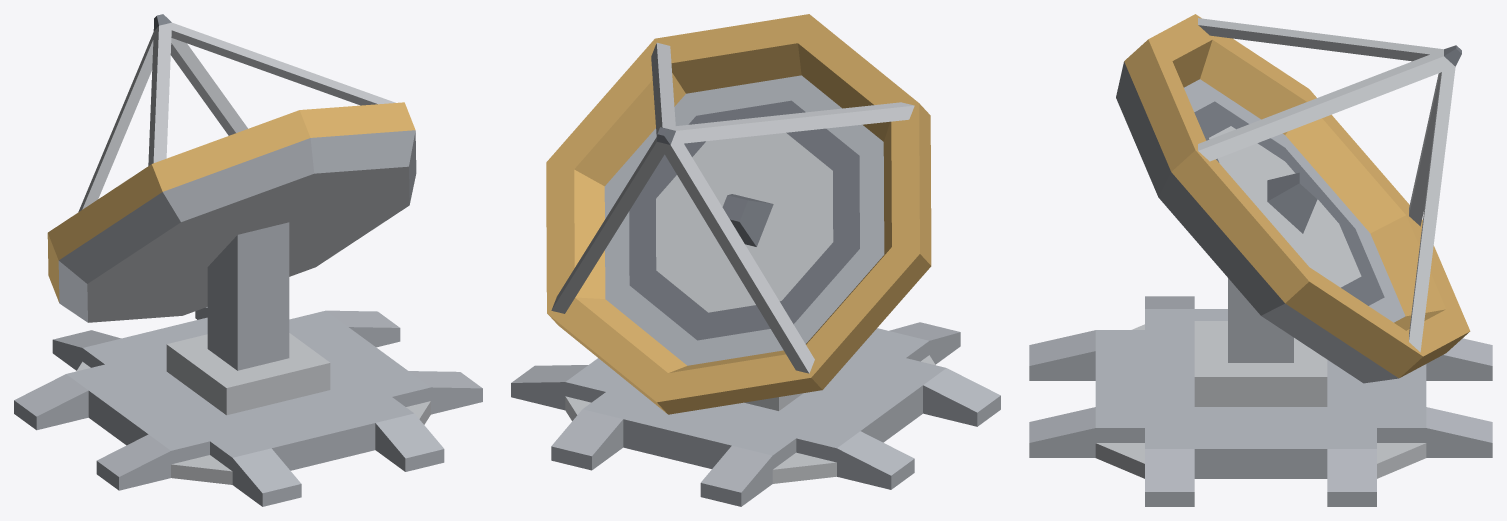
File: satelliteDish_detailed.glb
3 views of the same model, side by side, from view 1: azimuth 30°, elevation 25°; view 2: azimuth 150°, elevation 25°; view 3: azimuth 270°, elevation 25° (orthographic). The views are drawn at different scales.
Parts seen in each view (by area): view 1: satelliteDish_detailed; view 2: satelliteDish_detailed; view 3: satelliteDish_detailed.
Boxes of the visible parts, left/top/right/bottom form: satelliteDish_detailed: left=14, top=14, right=482, bottom=506; satelliteDish_detailed: left=511, top=14, right=1000, bottom=506; satelliteDish_detailed: left=1029, top=14, right=1492, bottom=506.
Size of the model in its own units: 0.7 by 0.6165 by 0.7.
